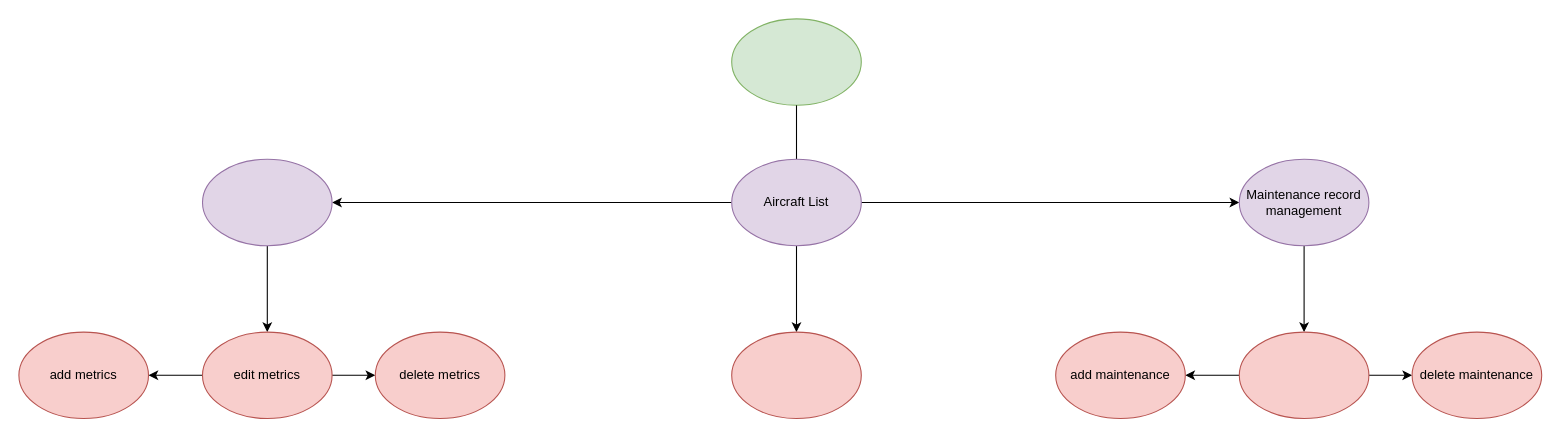
The diagram is 1561 pixels wide and 437 high, and some of its shapes have lost their labels. The box of each missing label's shape, as (x1, y1, x2, y2) in pixels:
add aircraft: (731, 331, 861, 418)
edit maintenance: (1238, 331, 1369, 418)
Home: (731, 18, 861, 105)
Performance metrics dashboard: (201, 158, 332, 246)
